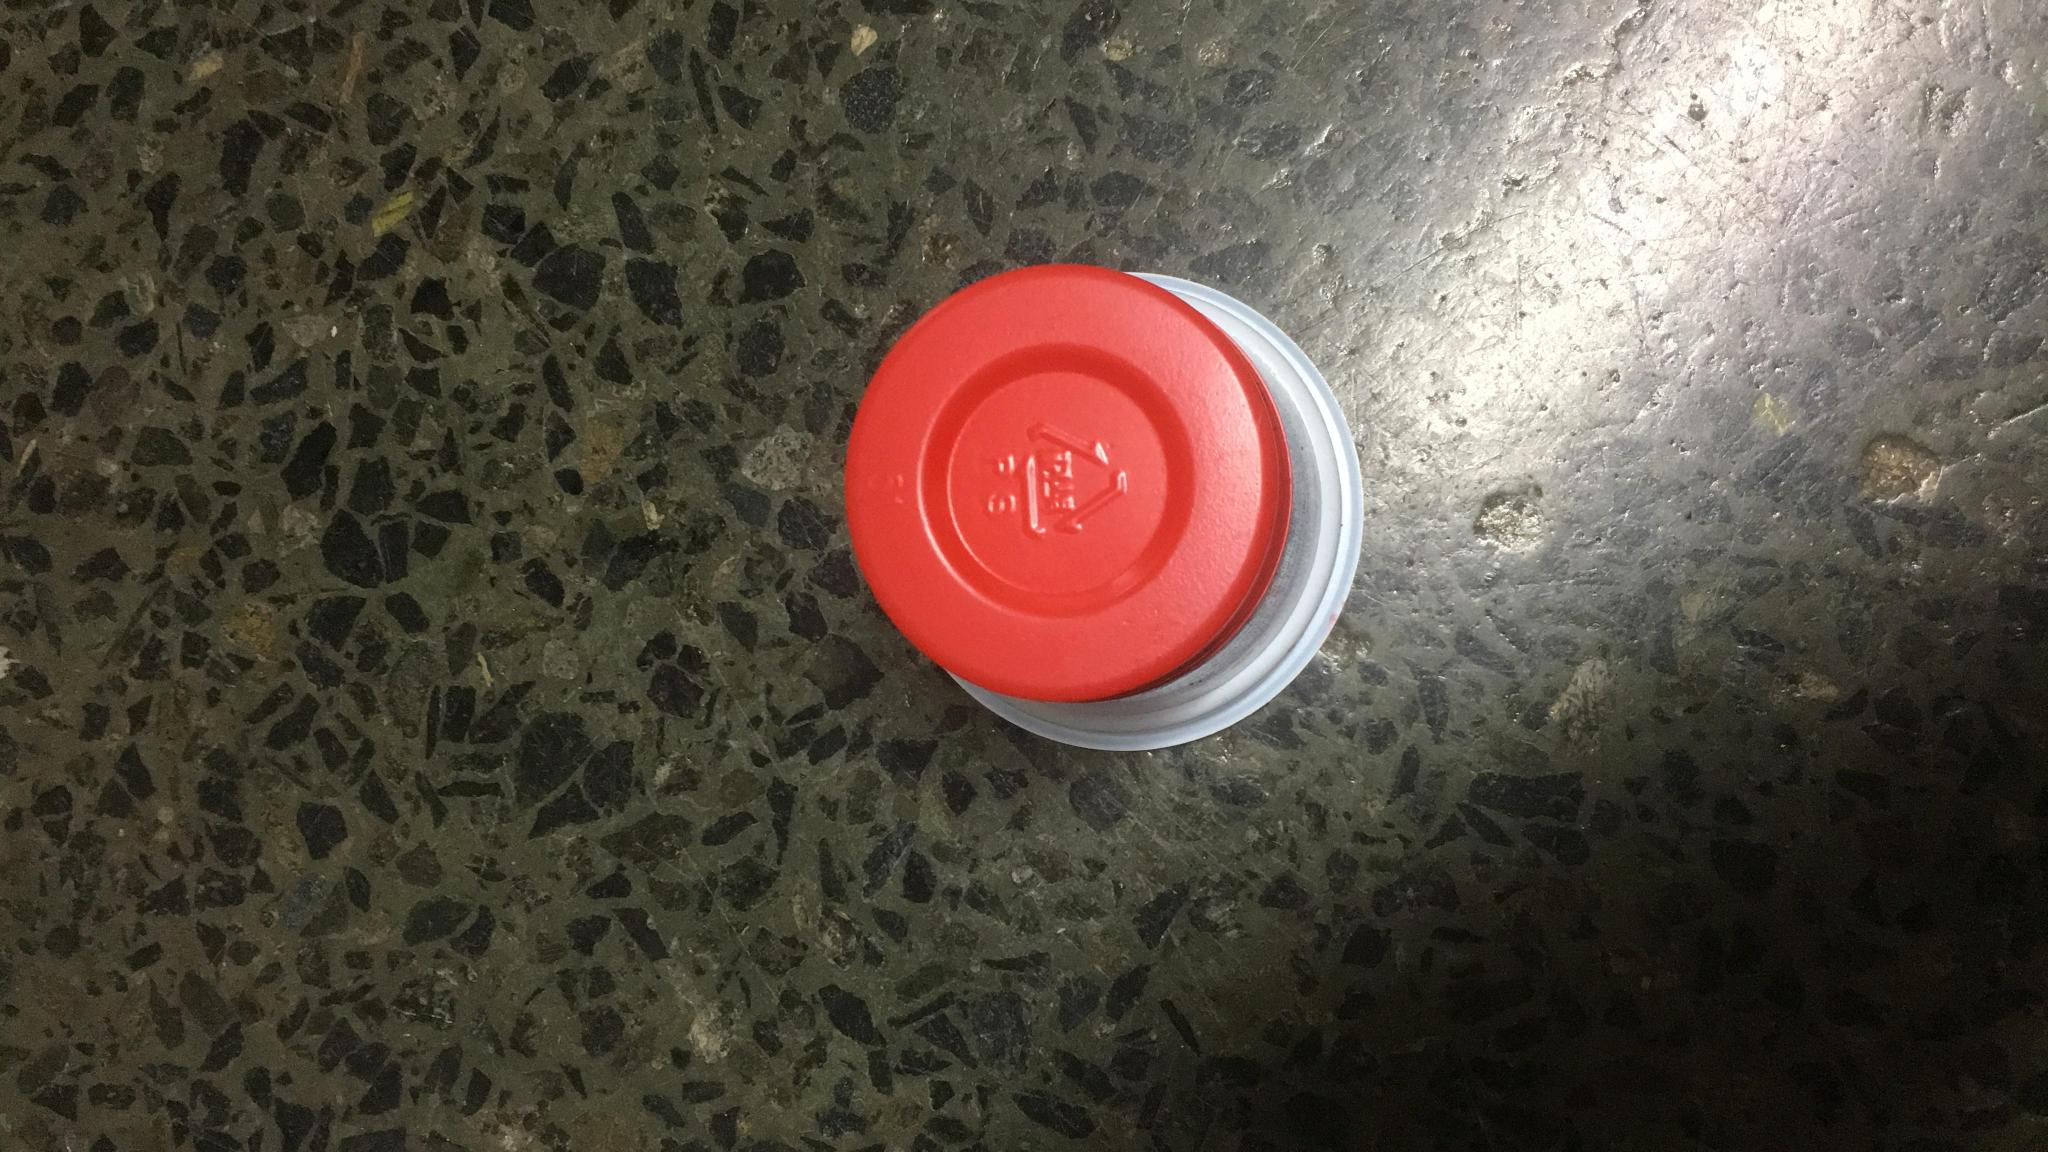bottle: (831, 250, 1376, 761)
